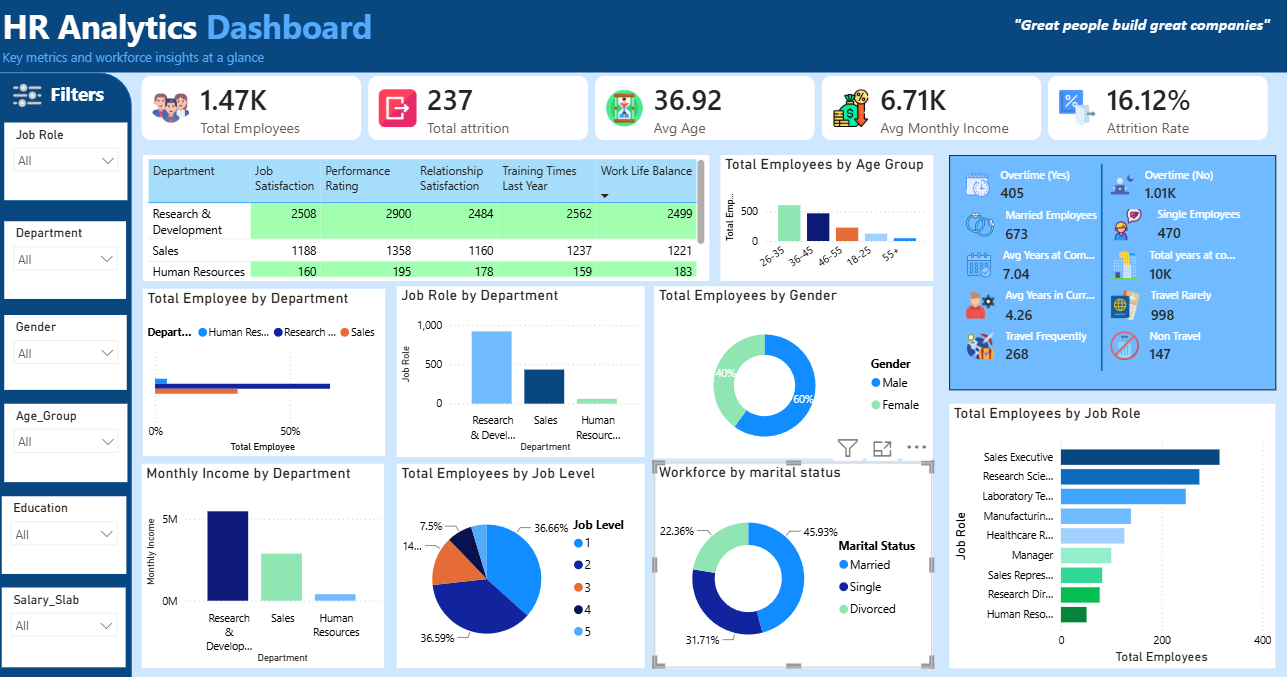

The page's visual inventory and layout, read from the dashboard file:
{"tool":"powerbi","page":{"name":"Page 1","canvas":[1475,780],"ordinal":0},"visuals":[{"type":"shape","box":[0,0,1475.7,82.9],"z":0},{"type":"shape","box":[0,82.9,152.9,717.1],"z":1000},{"type":"textbox","box":[0,0,442.9,82.9],"z":2000},{"type":"slicer","fields":{"Values":["hr job_details.department"]},"box":[7.1,252.9,139.4,89.2],"z":3000},{"type":"slicer","fields":{"Values":["hr job_details.job_role"]},"box":[7.1,140,140.8,89.2],"z":4000},{"type":"slicer","fields":{"Values":["hr employees.gender"]},"box":[7.1,360,140,85.7],"z":5000},{"type":"slicer","fields":{"Values":["hr employees.age_group"]},"box":[7.1,461.4,140.7,89.3],"z":6000},{"type":"slicer","fields":{"Values":["hr employees.education"]},"box":[4.4,566.7,142.2,89.2],"z":7000},{"type":"slicer","fields":{"Values":["hr compensation.salary_slab"]},"box":[4.5,670.9,141.8,90.9],"z":8000},{"type":"clusteredBarChart","fields":{"Y":["hr employees.Total_Emp"],"Series":["hr job_details.department"]},"box":[165.7,330,277.1,191.4],"z":9000},{"type":"donutChart","fields":{"Category":["hr employees.gender"],"Y":["CountNonNull(hr employees.emp_id)"]},"box":[750,326.7,318.3,196.7],"z":10000},{"type":"clusteredColumnChart","fields":{"Category":["hr employees.age_group"],"Y":["hr employees.Total Employees"]},"box":[825.7,177.1,242.9,144.3],"z":11000},{"type":"columnChart","fields":{"Y":["Sum(hr compensation.monthly_income)"],"Category":["hr job_details.department"]},"box":[165,530,276.7,233.3],"z":12000},{"type":"pieChart","fields":{"Y":["CountNonNull(hr job_details.emp_id)"],"Category":["hr job_details.job_level"]},"box":[455,530,283.3,233.3],"z":13000},{"type":"donutChart","fields":{"Y":["CountNonNull(hr job_details.over_time)"],"Category":["hr employees.marital_status"]},"box":[750,528.3,318.3,235],"z":14000},{"type":"clusteredColumnChart","fields":{"Category":["hr job_details.department"],"Y":["CountNonNull(hr job_details.job_role)"]},"box":[455,326.7,283.3,195],"z":15000},{"type":"tableEx","fields":{"Values":["hr job_details.department","Sum(hr job_satisfaction.job_satisfaction)","Sum(hr job_satisfaction.performance_rating)","Sum(hr job_satisfaction.relationship_satisfaction)","Sum(hr job_satisfaction.training_times_last_year)","Sum(hr job_satisfaction.work_life_balance)"]},"box":[165.7,177.1,647.1,144.3],"z":16000},{"type":"image","box":[7.5,91.7,53.3,35],"z":17000},{"type":"textbox","box":[33.8,87.7,112.3,43.1],"z":18000},{"type":"cardVisual","fields":{"Data":["hr employees.Total Employees","Sum(hr employees.attrition_count)","hr employees.Avg Age","hr compensation.Avg Monthly Income","hr employees.Attrition Rate"]},"box":[147.1,70,1325.7,107.1],"z":19000},{"type":"textbox","box":[1155.7,11.4,304.3,58.6],"z":20000},{"type":"cardVisual","fields":{"Data":["hr job_details.Overtime Yes","hr job_details.Overtime No","hr employees.Married Employees","hr employees.Single Employees","hr job_details.Avg Years at Company","Sum(hr job_details.years_at_company)","hr job_details.Avg Years in Current Role","hr job_details.Travel Rarely","hr job_details.Travel Frequently","hr job_details.Non Travel"]},"box":[1086.7,176.7,373.3,268.9],"z":21000},{"type":"shape","box":[1111.1,187.8,300,236.7],"z":22000},{"type":"barChart","fields":{"Category":["hr job_details.job_role"],"Y":["Count(hr employees.employee_number)"]},"box":[1087,461,373,302],"z":23000}]}

Visuals, with their boxes in screenshot pixels (x1, y1, x2, y2), scaled from the page's 1475x780 canvas onto the 1287x677 screenshot:
shape: [0, 0, 1286, 72]
shape: [0, 72, 133, 676]
textbox: [0, 0, 386, 72]
slicer - hr job_details.department: [6, 220, 128, 297]
slicer - hr job_details.job_role: [6, 122, 129, 199]
slicer - hr employees.gender: [6, 312, 128, 387]
slicer - hr employees.age_group: [6, 400, 129, 478]
slicer - hr employees.education: [4, 492, 128, 569]
slicer - hr compensation.salary_slab: [4, 582, 128, 661]
clusteredBarChart - hr employees.Total_Emp x hr job_details.department: [145, 286, 386, 453]
donutChart - hr employees.gender x CountNonNull(hr employees.emp_id): [654, 284, 932, 454]
clusteredColumnChart - hr employees.age_group x hr employees.Total Employees: [720, 154, 932, 279]
columnChart - Sum(hr compensation.monthly_income) x hr job_details.department: [144, 460, 385, 663]
pieChart - CountNonNull(hr job_details.emp_id) x hr job_details.job_level: [397, 460, 644, 663]
donutChart - CountNonNull(hr job_details.over_time) x hr employees.marital_status: [654, 459, 932, 663]
clusteredColumnChart - hr job_details.department x CountNonNull(hr job_details.job_role): [397, 284, 644, 453]
tableEx - hr job_details.department x Sum(hr job_satisfaction.job_satisfaction): [145, 154, 709, 279]
image: [7, 80, 53, 110]
textbox: [29, 76, 127, 114]
cardVisual - hr employees.Total Employees x Sum(hr employees.attrition_count): [128, 61, 1285, 154]
textbox: [1008, 10, 1274, 61]
cardVisual - hr job_details.Overtime Yes x hr job_details.Overtime No: [948, 153, 1274, 387]
shape: [969, 163, 1231, 368]
barChart - hr job_details.job_role x Count(hr employees.employee_number): [948, 400, 1274, 662]
